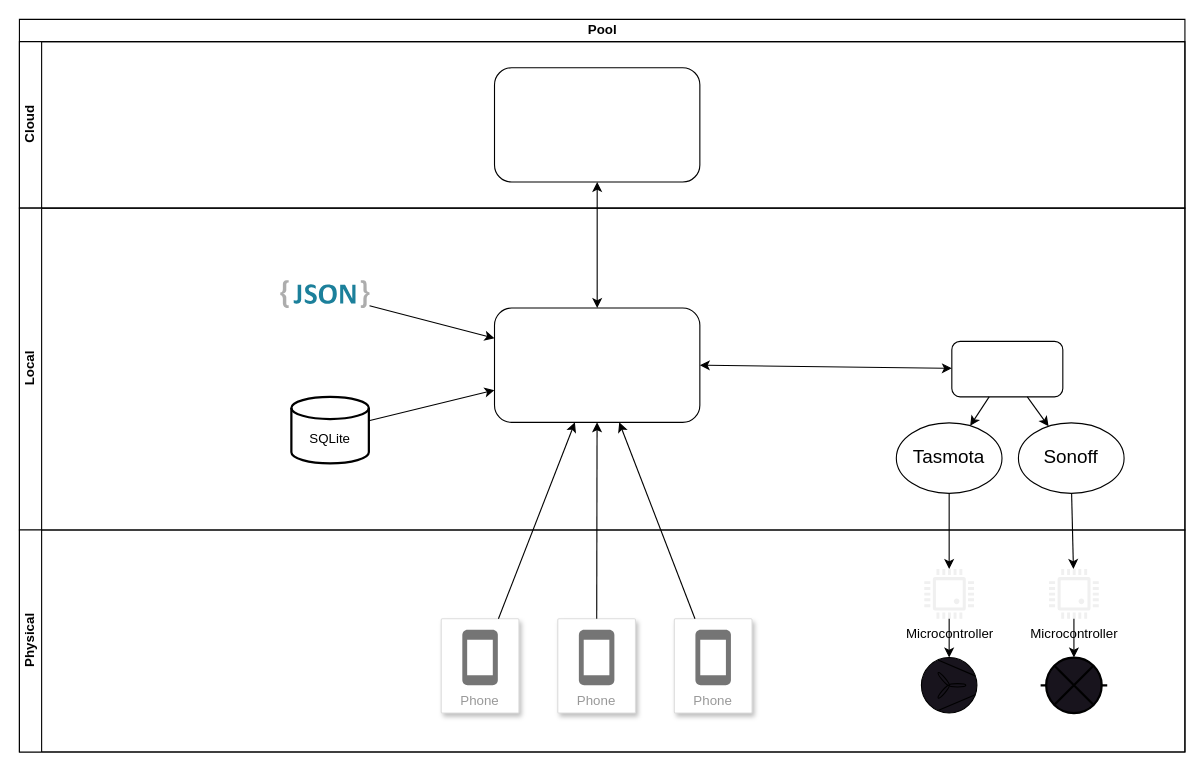
This 1204x771 diagram has some shape labels left out. The shapes that lost their labels are listed below. From the top down, each one's centre as x and y in pixels, then its label:
At (596,124): "Server".
At (324,293): "Devices List".
At (596,364): "Core".
At (1007,368): "Drivers".
At (948,684): "AC Unit".
At (1073,685): "Light".
